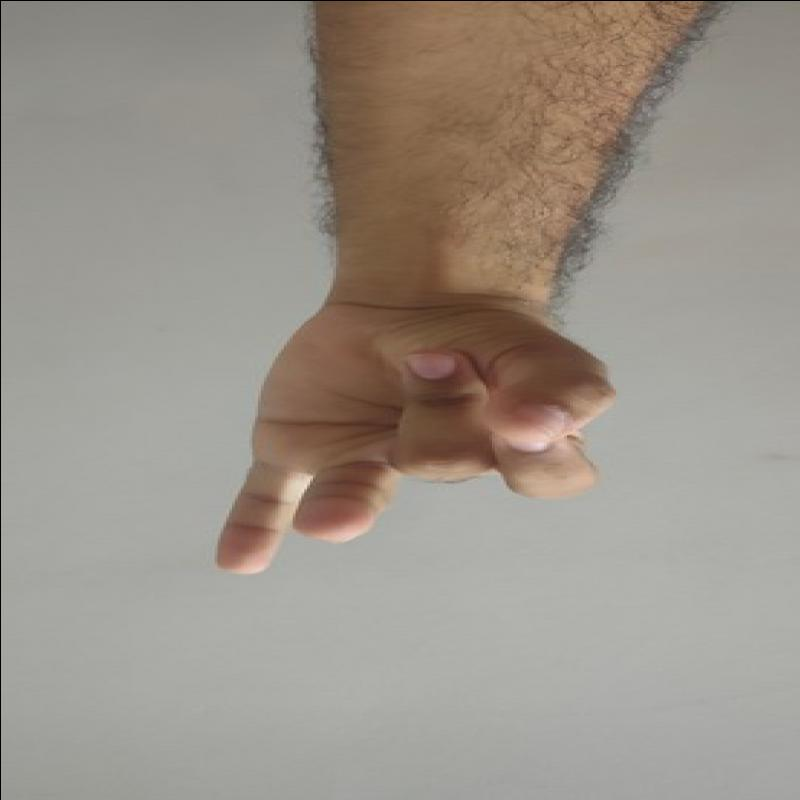Katakam: (202, 282, 621, 587)
